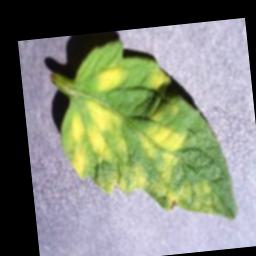Leaf_Mold: (93, 154, 220, 228), (58, 93, 131, 182), (134, 100, 190, 184), (90, 64, 130, 94), (140, 66, 172, 97)
